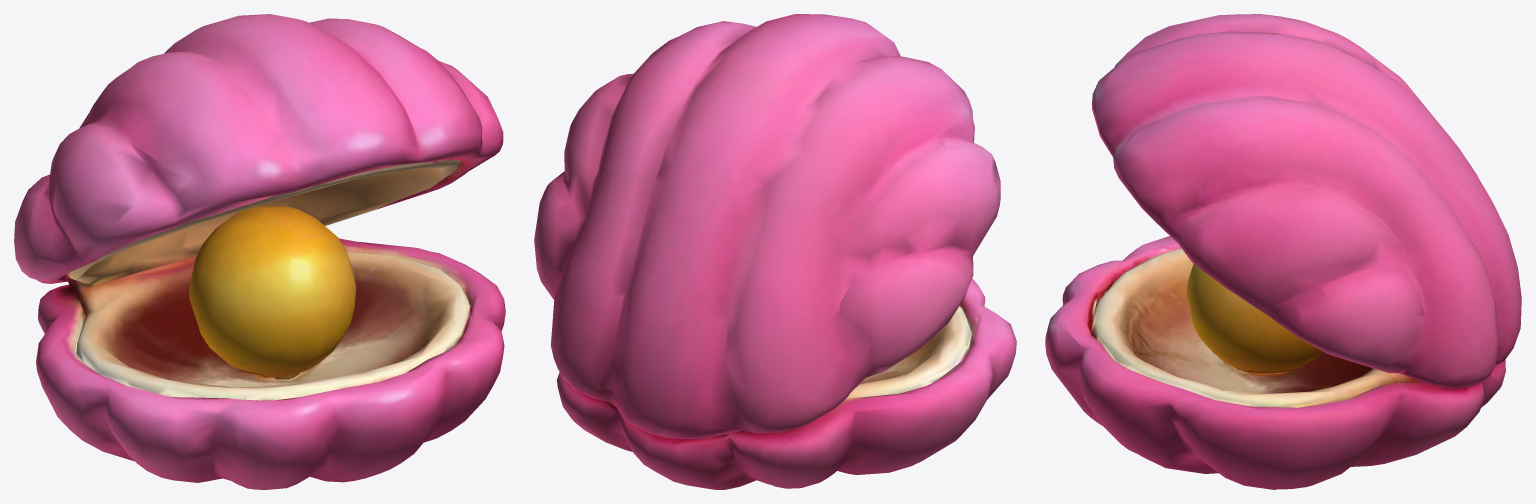
Rendered from giant-shell.glb.
The picture shows the model from 3 angles, left to right: view 1: azimuth 30°, elevation 25°; view 2: azimuth 150°, elevation 25°; view 3: azimuth 270°, elevation 25°; orthographic projection. The views are drawn at different scales.
Parts seen in each view (by area): view 1: tripo_node_296a1804-e2b8-4544-9332-b3f50b3fe360; view 2: tripo_node_296a1804-e2b8-4544-9332-b3f50b3fe360; view 3: tripo_node_296a1804-e2b8-4544-9332-b3f50b3fe360.
Boxes of the visible parts, x1=… form: tripo_node_296a1804-e2b8-4544-9332-b3f50b3fe360: x1=14, y1=14, x2=505, y2=489; tripo_node_296a1804-e2b8-4544-9332-b3f50b3fe360: x1=534, y1=14, x2=1016, y2=489; tripo_node_296a1804-e2b8-4544-9332-b3f50b3fe360: x1=1045, y1=14, x2=1521, y2=489.
Bounding box in the file's own units: 0.9988 × 0.9303 × 0.9973.
1 material, 1 textured.
